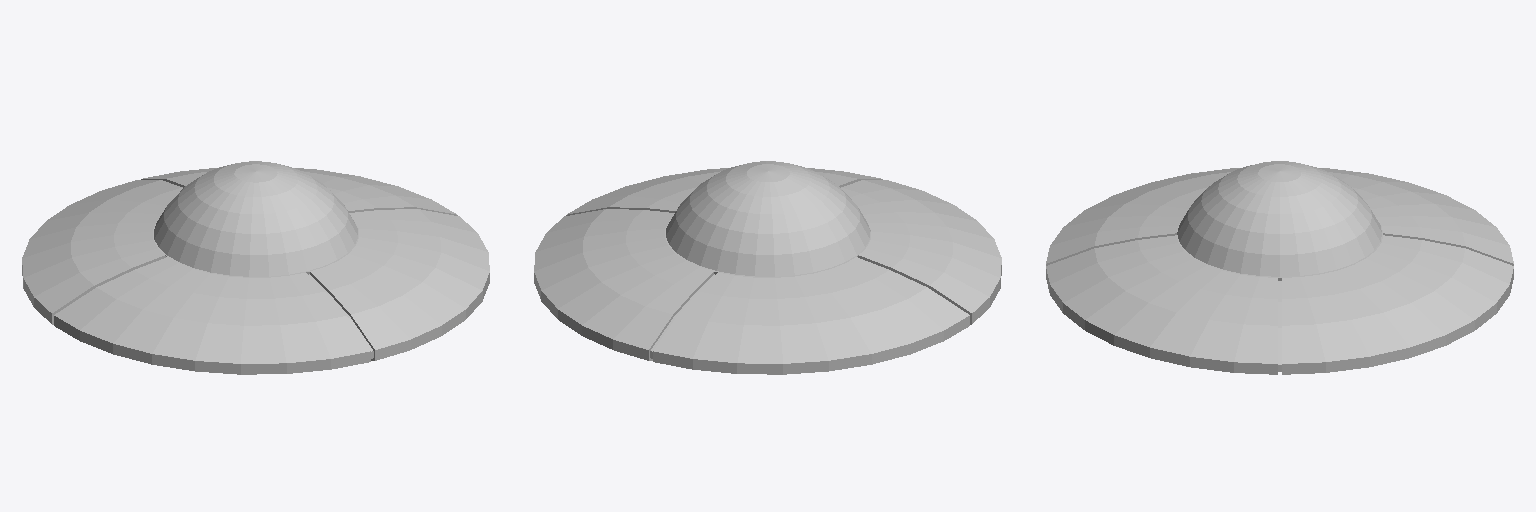
The model's file is ufo_fix.obj.
3 views of the same model, side by side, from view 1: azimuth 30°, elevation 25°; view 2: azimuth 150°, elevation 25°; view 3: azimuth 270°, elevation 25° (orthographic).
Visible parts, largest first — view 1: UFO_body, UFO_cockpit; view 2: UFO_body, UFO_cockpit; view 3: UFO_body, UFO_cockpit.
Part boxes in pixels (x1,y1,x2,y2): UFO_body: (22, 167, 489, 374); UFO_cockpit: (154, 161, 357, 276); UFO_body: (534, 168, 1001, 374); UFO_cockpit: (666, 161, 870, 276); UFO_body: (1046, 168, 1513, 374); UFO_cockpit: (1177, 161, 1381, 276).
Size of the model in its own units: 67.87 by 27.04 by 67.87.